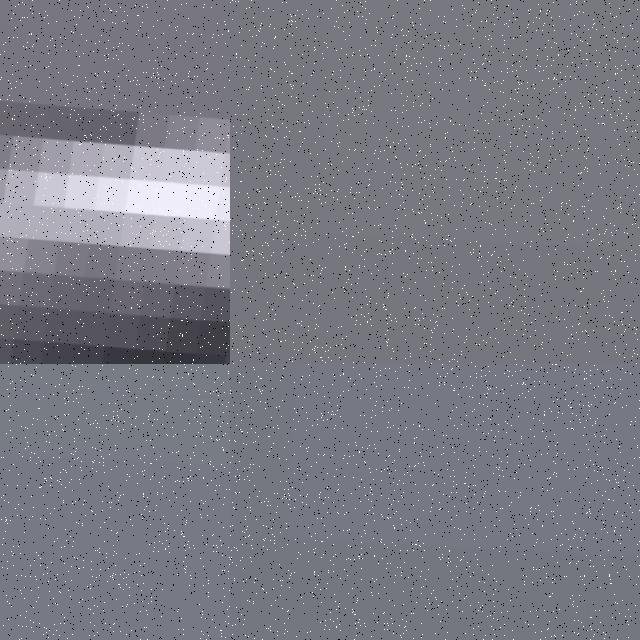drone: (0, 0, 230, 364)
